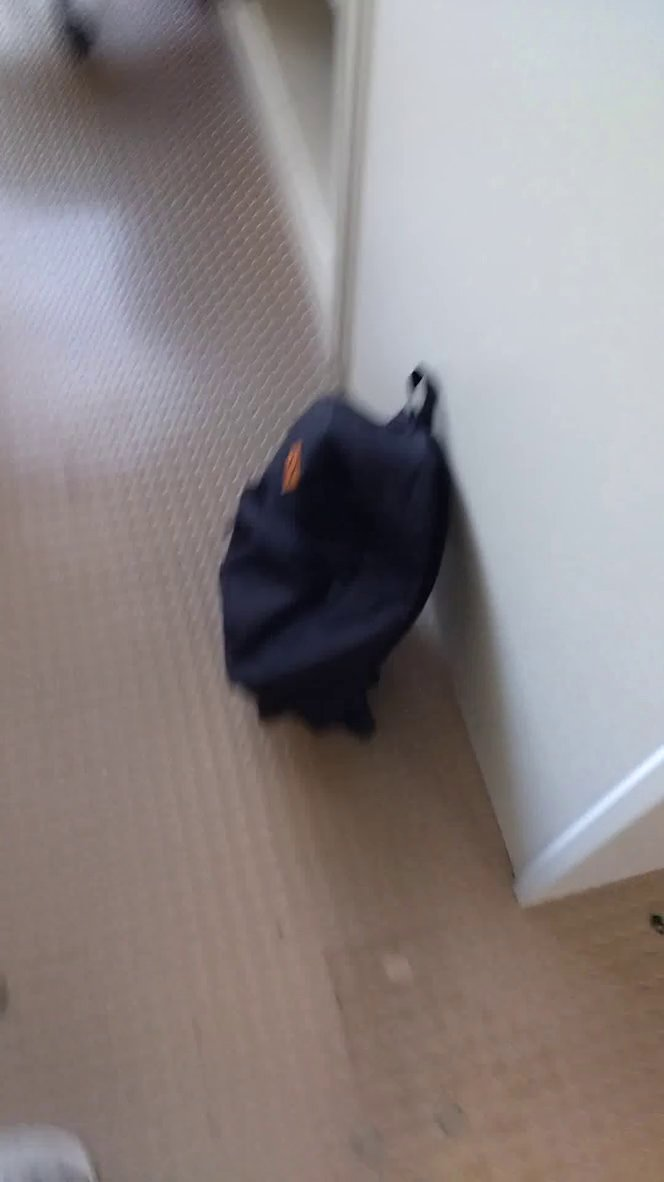bag: (202, 350, 471, 764)
